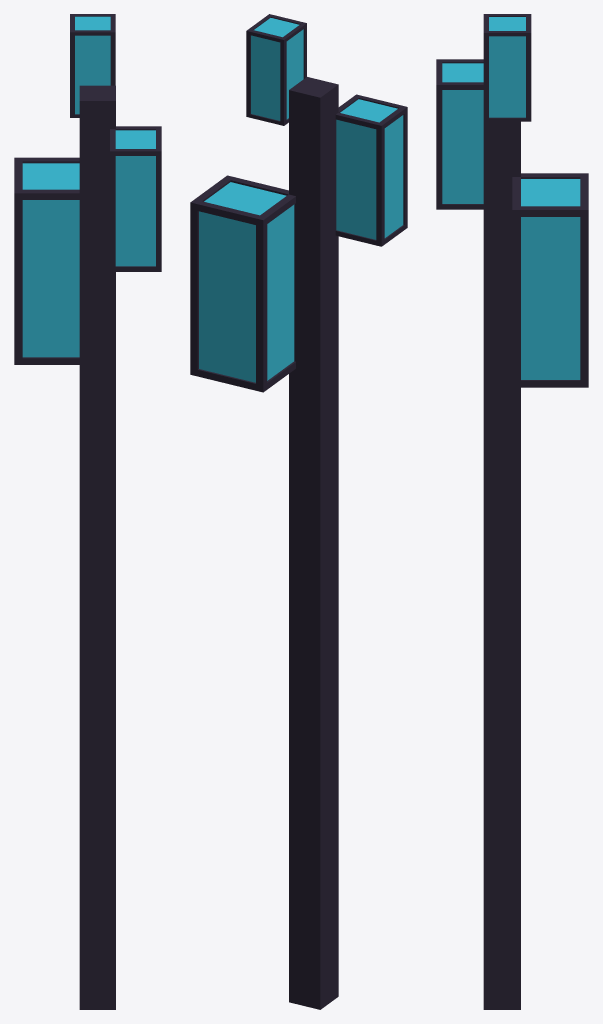
Rendered from Lampadaire1.fbx.
3 renders of one model, left to right at view 1: azimuth 90°, elevation 25°; view 2: azimuth 150°, elevation 25°; view 3: azimuth 270°, elevation 25°, orthographic. The views are drawn at different scales.
Parts seen in each view (by area): view 1: Cube, Cube.001, Cube.002, Cube.003; view 2: Cube, Cube.001, Cube.002, Cube.003; view 3: Cube, Cube.001, Cube.002, Cube.003.
Boxes of the visible parts, bbox=[...] form: Cube: bbox=[79, 85, 115, 1009]; Cube.001: bbox=[14, 157, 79, 364]; Cube.002: bbox=[110, 126, 161, 271]; Cube.003: bbox=[70, 14, 115, 117]; Cube: bbox=[289, 77, 338, 1009]; Cube.001: bbox=[190, 175, 295, 392]; Cube.002: bbox=[335, 94, 407, 246]; Cube.003: bbox=[246, 14, 306, 125]; Cube: bbox=[483, 121, 520, 1009]; Cube.001: bbox=[512, 173, 588, 387]; Cube.002: bbox=[436, 59, 483, 209]; Cube.003: bbox=[483, 14, 531, 121].
Bounding box in the file's own units: 274 × 1765 × 245.
